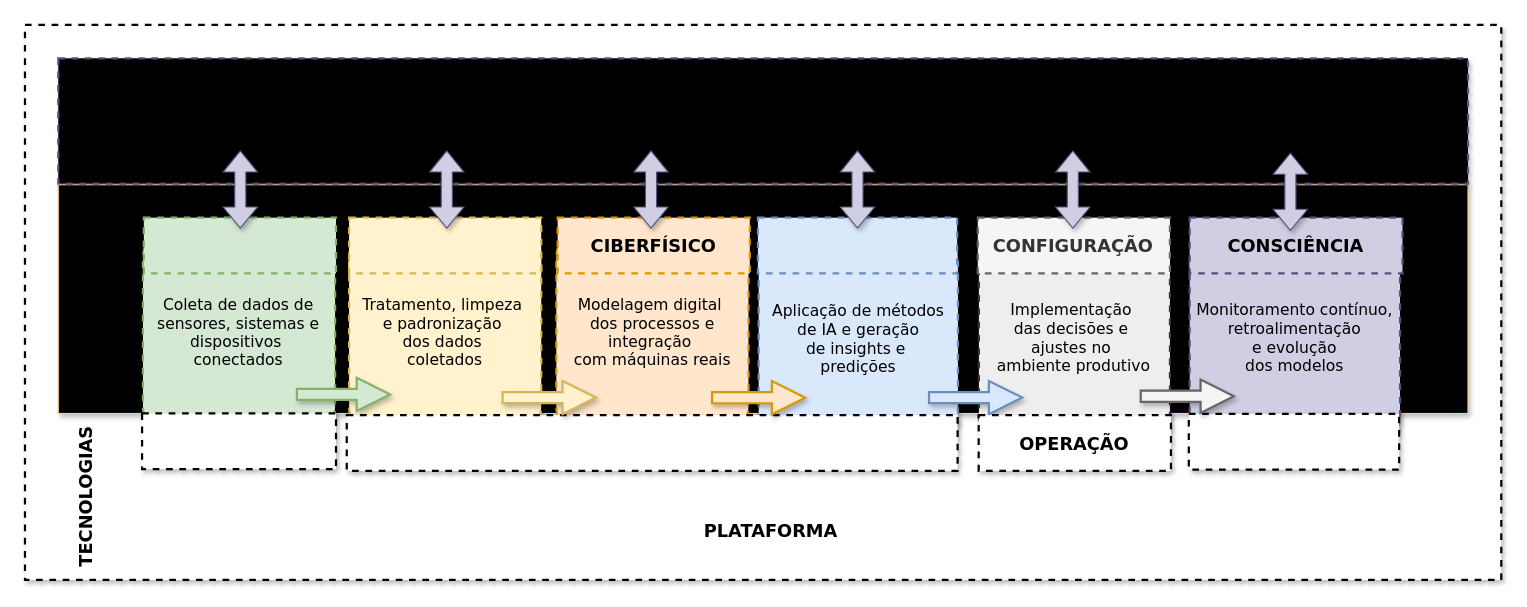
Some shapes in this 1527 by 607 pixel diagram are drawn without their labels. Here are the shapes that lost their labels. From the top down, the centre of each, then its label:
At point (239, 245): "CONEXÃO".
At point (444, 245): "CONVERSÃO".
At point (857, 245): "COGNIÇÃO".
At point (239, 442): "DADOS".
At point (653, 444): "ANALÍTICA".
At point (1294, 443): "SABER".
